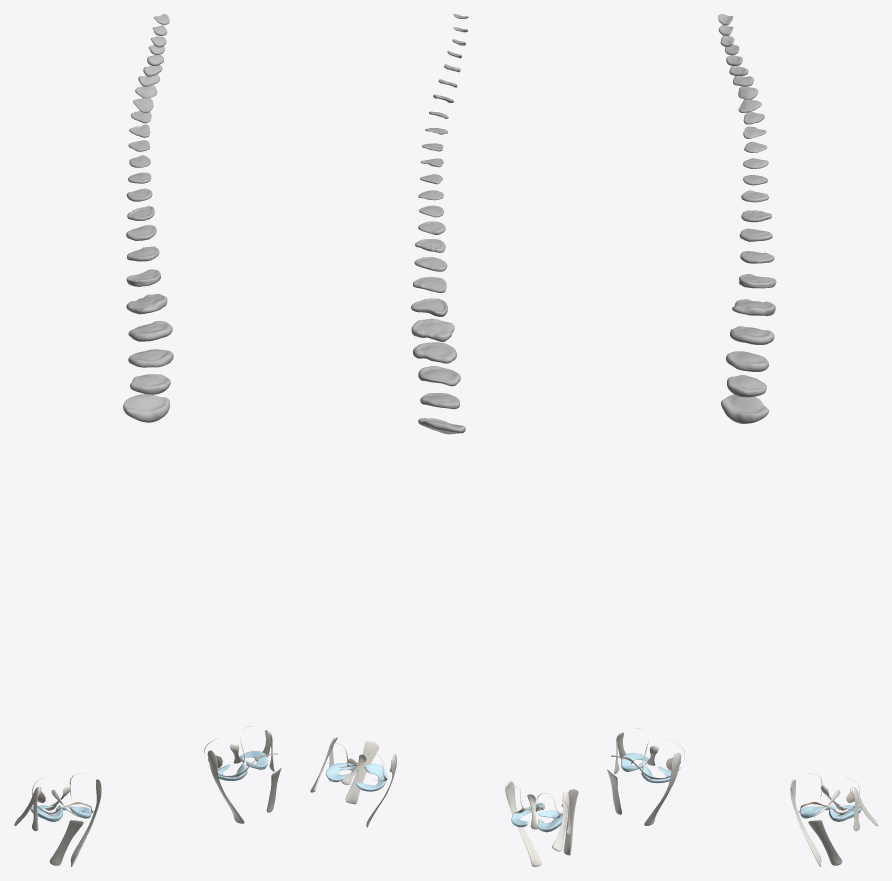
The model's file is female-joints.glb.
3 renders of one model, left to right at view 1: azimuth 30°, elevation 25°; view 2: azimuth 150°, elevation 25°; view 3: azimuth 330°, elevation 25°, orthographic.
Parts seen in each view (by area): view 1: VH_F_intervertebral_disk_of_sixth_lumbar_vertebra, VH_F_intervertebral_disk_of_fifth_lumbar_vertebra, VH_F_meniscus_L, VH_F_intervertebral_disk_of_third_lumbar_vertebra, VH_F_intervertebral_disk_of_fourth_lumbar_vertebra, VH_F_intervertebral_disk_of_second_lumbar_vertebra, VH_F_meniscus_R, VH_F_patellar_ligament_R; view 2: VH_F_meniscus_L, VH_F_intervertebral_disk_of_third_lumbar_vertebra, VH_F_intervertebral_disk_of_second_lumbar_vertebra, VH_F_meniscus_R, VH_F_patellar_ligament_L, VH_F_right_tibial_collateral_ligament, VH_F_intervertebral_disk_of_fourth_lumbar_vertebra; view 3: VH_F_intervertebral_disk_of_sixth_lumbar_vertebra, VH_F_intervertebral_disk_of_fifth_lumbar_vertebra, VH_F_intervertebral_disk_of_fourth_lumbar_vertebra, VH_F_meniscus_R, VH_F_intervertebral_disk_of_third_lumbar_vertebra, VH_F_intervertebral_disk_of_second_lumbar_vertebra, VH_F_meniscus_L, VH_F_patellar_ligament_L.
Part boxes in pixels (x1,y1,x2,y2): VH_F_intervertebral_disk_of_sixth_lumbar_vertebra: (123,394,169,422); VH_F_intervertebral_disk_of_fifth_lumbar_vertebra: (130,374,170,394); VH_F_meniscus_L: (217,751,267,780); VH_F_intervertebral_disk_of_third_lumbar_vertebra: (128,321,172,341); VH_F_intervertebral_disk_of_fourth_lumbar_vertebra: (128,349,173,367); VH_F_intervertebral_disk_of_second_lumbar_vertebra: (126,294,167,314); VH_F_meniscus_R: (30,805,91,821); VH_F_patellar_ligament_R: (49,820,83,865); VH_F_meniscus_L: (326,762,387,791); VH_F_intervertebral_disk_of_third_lumbar_vertebra: (413,342,456,363); VH_F_intervertebral_disk_of_second_lumbar_vertebra: (411,318,454,341); VH_F_meniscus_R: (511,803,562,832); VH_F_patellar_ligament_L: (345,741,378,804); VH_F_right_tibial_collateral_ligament: (505,781,541,866); VH_F_intervertebral_disk_of_fourth_lumbar_vertebra: (418,366,460,386); VH_F_intervertebral_disk_of_sixth_lumbar_vertebra: (721,394,768,423); VH_F_intervertebral_disk_of_fifth_lumbar_vertebra: (727,375,766,397); VH_F_intervertebral_disk_of_fourth_lumbar_vertebra: (726,351,768,371); VH_F_meniscus_R: (621,753,671,783); VH_F_intervertebral_disk_of_third_lumbar_vertebra: (730,326,774,344); VH_F_intervertebral_disk_of_second_lumbar_vertebra: (732,299,775,315); VH_F_meniscus_L: (800,805,861,821); VH_F_patellar_ligament_L: (808,820,842,865).
Bounding box in the file's own units: 0.3571 × 1.13 × 0.1153.
